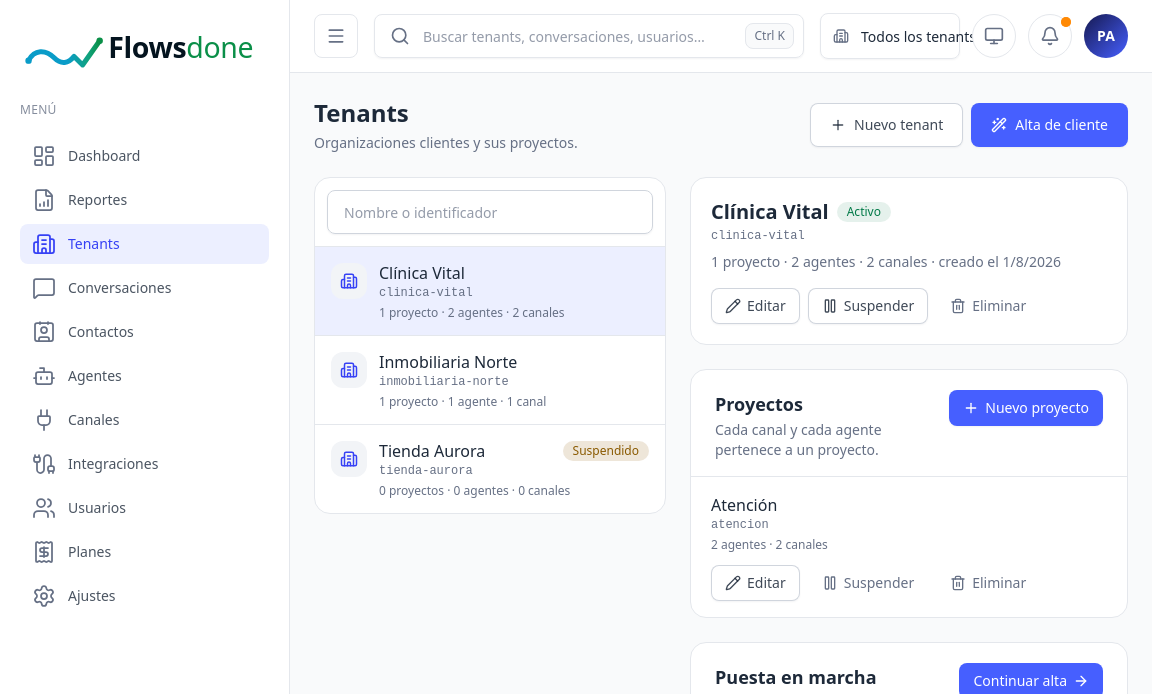
Scenario: Tenants: cuenta del cliente › al borrar el último proyecto, la puesta en marcha lo refleja
Expected: the text "No tiene proyectos." is not shown
Click the button with aria-label "Eliminar Atención" at x=988, y=583, box [936, 565, 1040, 601]
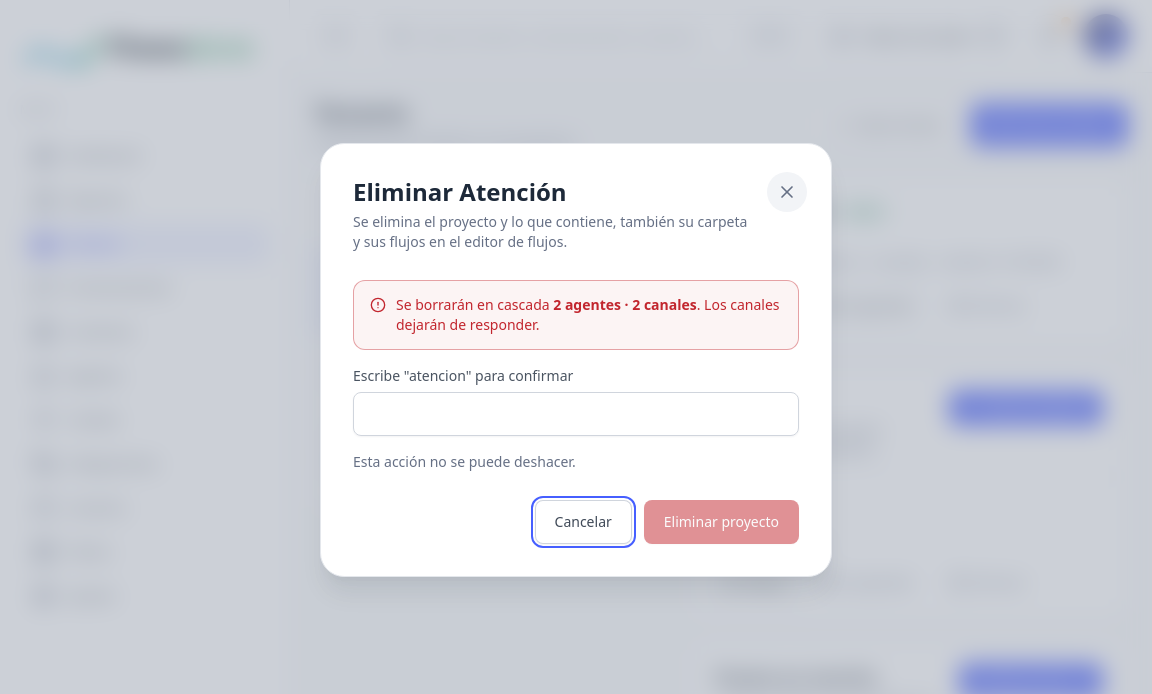
Type "atencion" into the field labelled "Escribe \"atencion\" para confirmar" at x=576, y=414, box [353, 392, 799, 436]
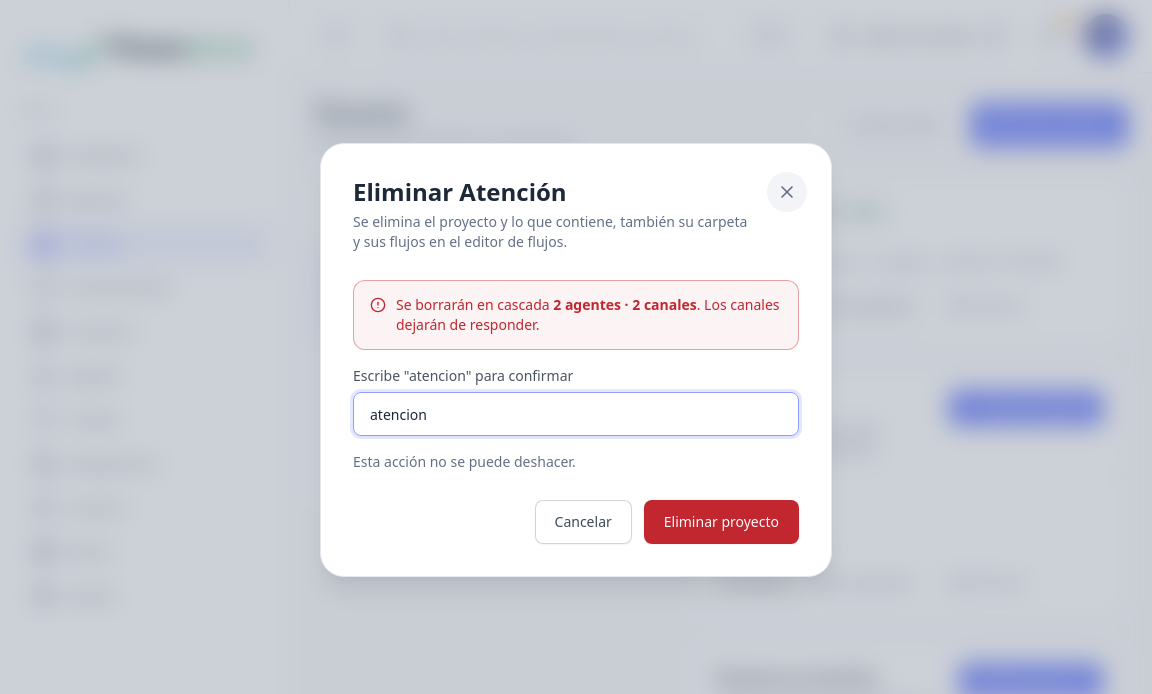
Click the button "Eliminar proyecto" at x=721, y=522, box [644, 500, 799, 544]
(page scrolled)
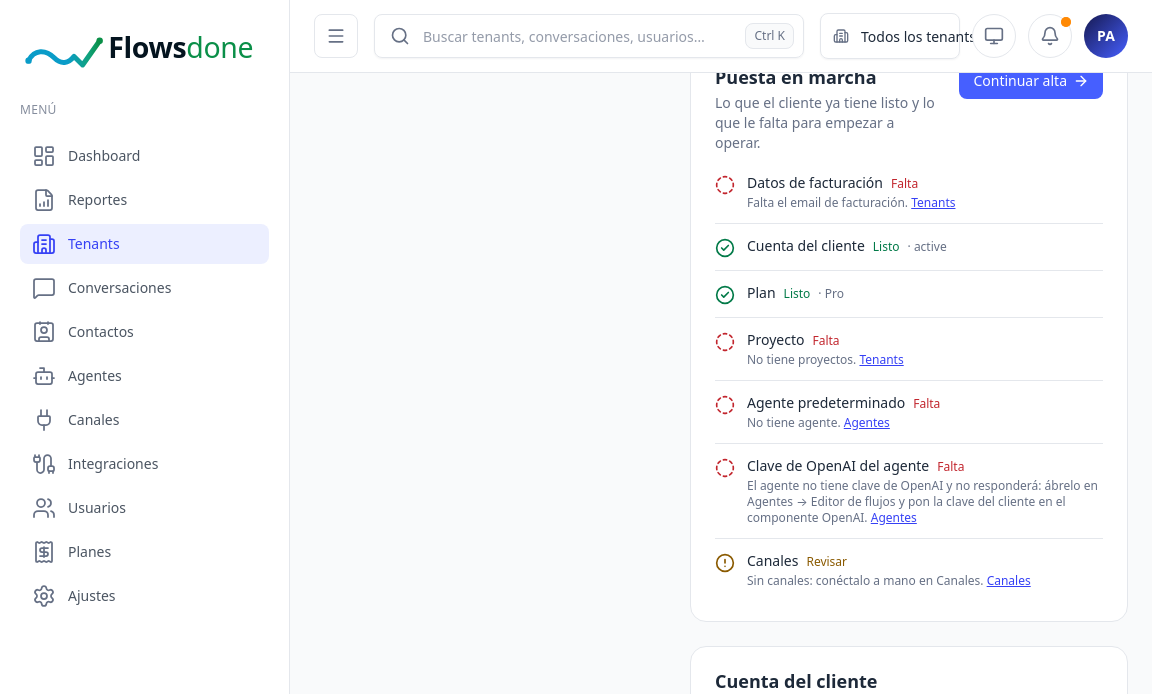
Now the dialog is gone
Now the text "No tiene proyectos." is shown, box [747, 351, 856, 368]
